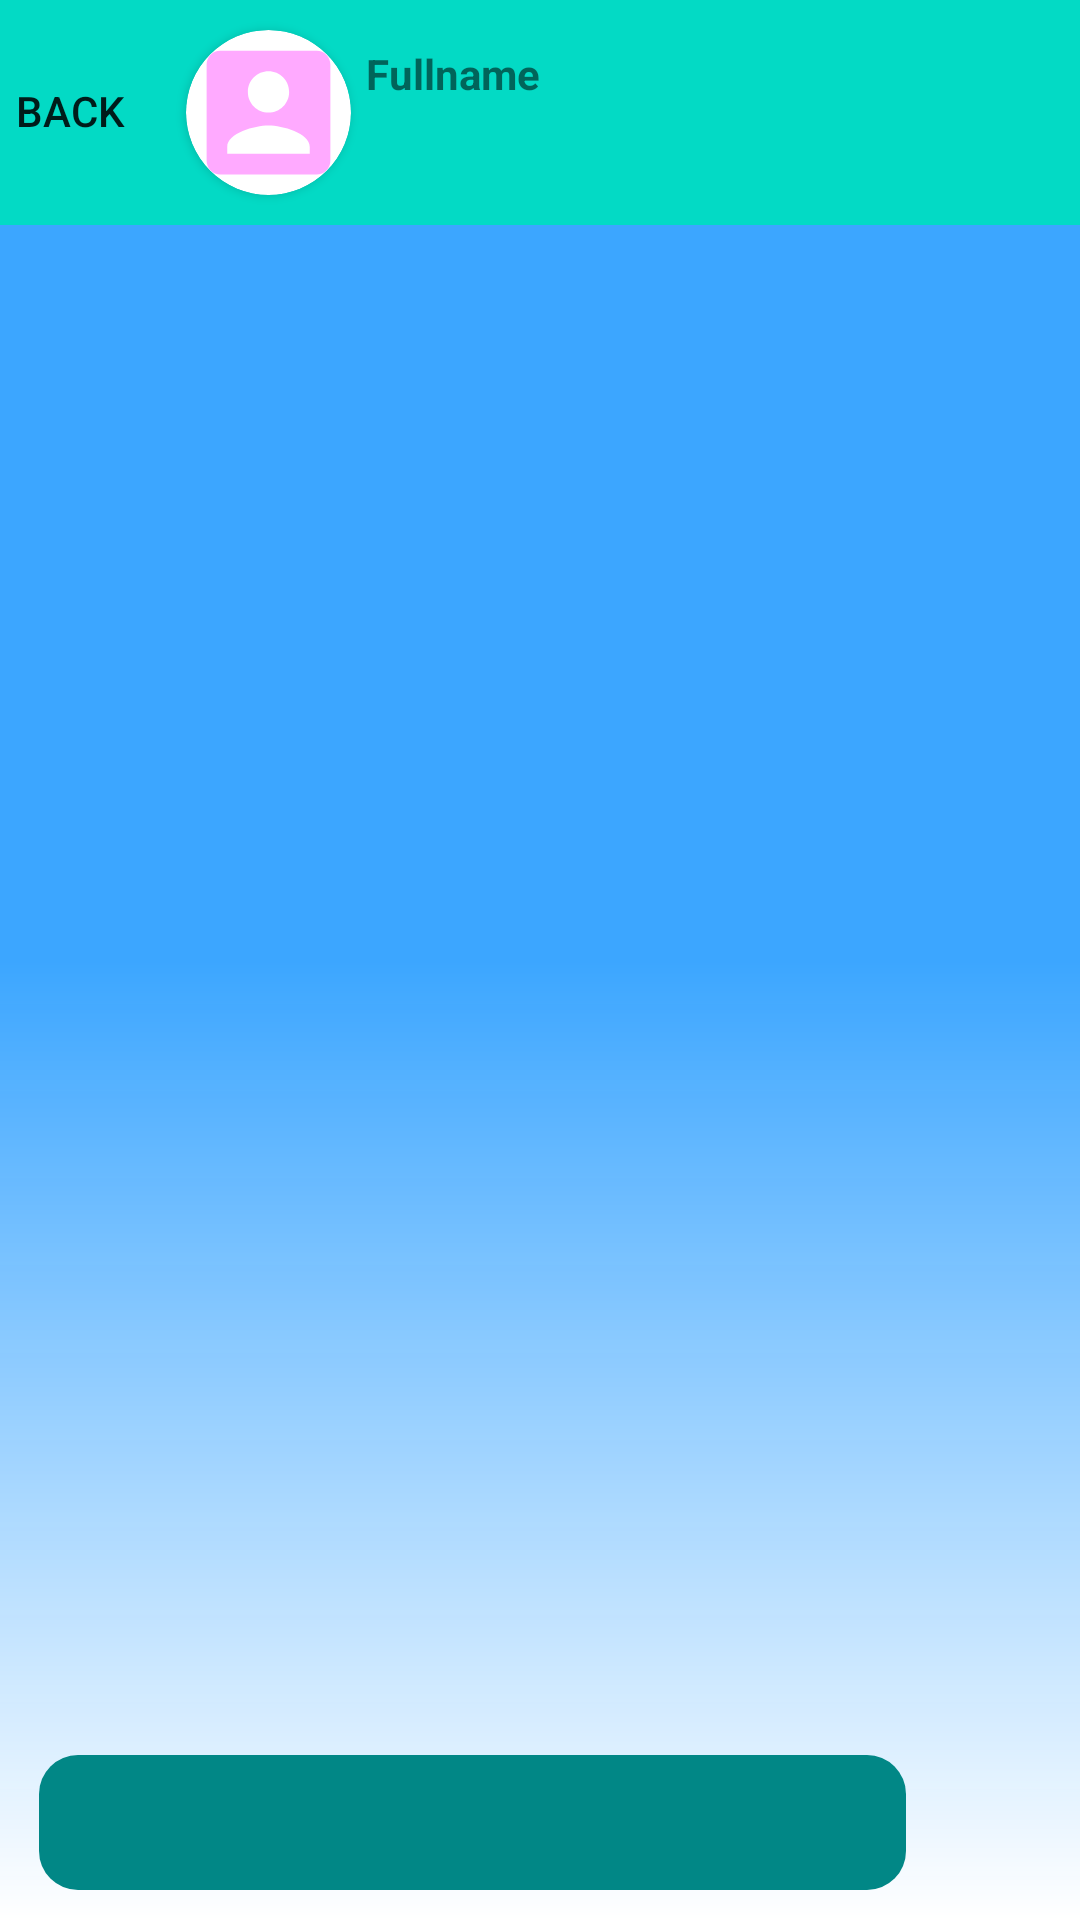

Icons on this 1080*1920 Android screen, each with the point to tap as [x,y]:
account: [268,112]
